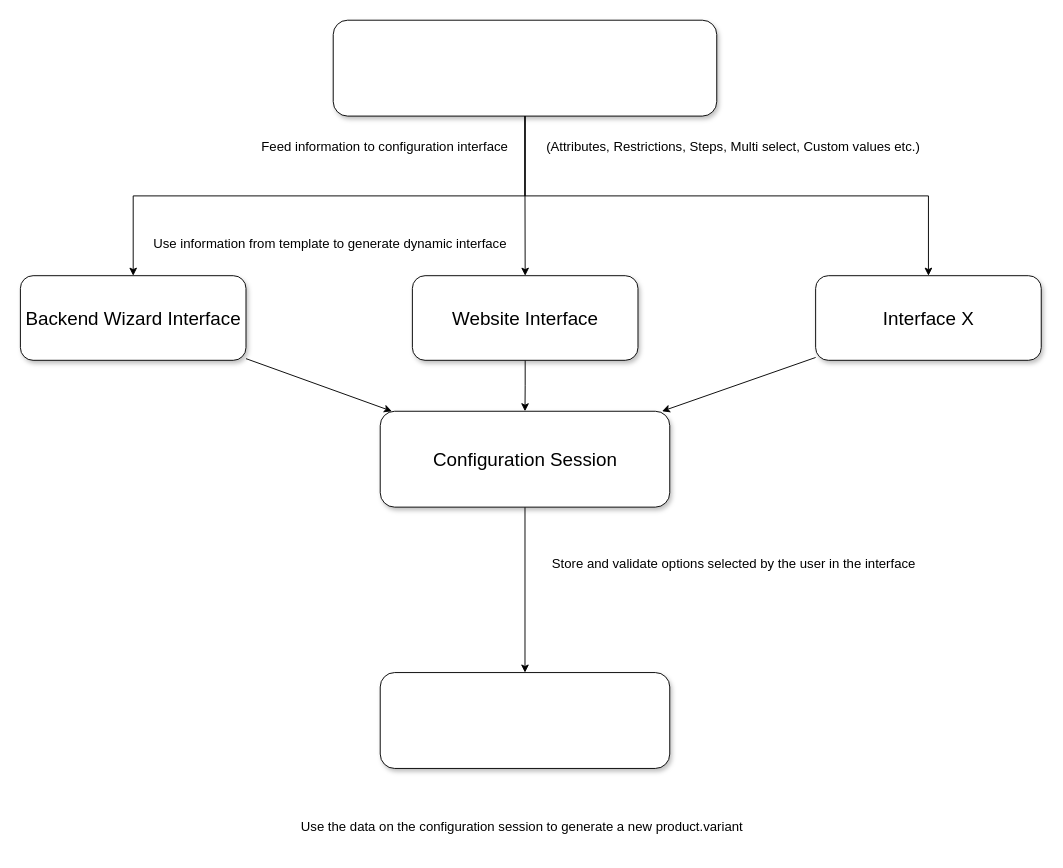
This 1063x868 diagram has some shape labels left out. The centre of each missing label's shape, as x and y in pixels:
"Configurable Template (product.template)" belongs at [525,69].
"Configured Variant" belongs at [525,721].
